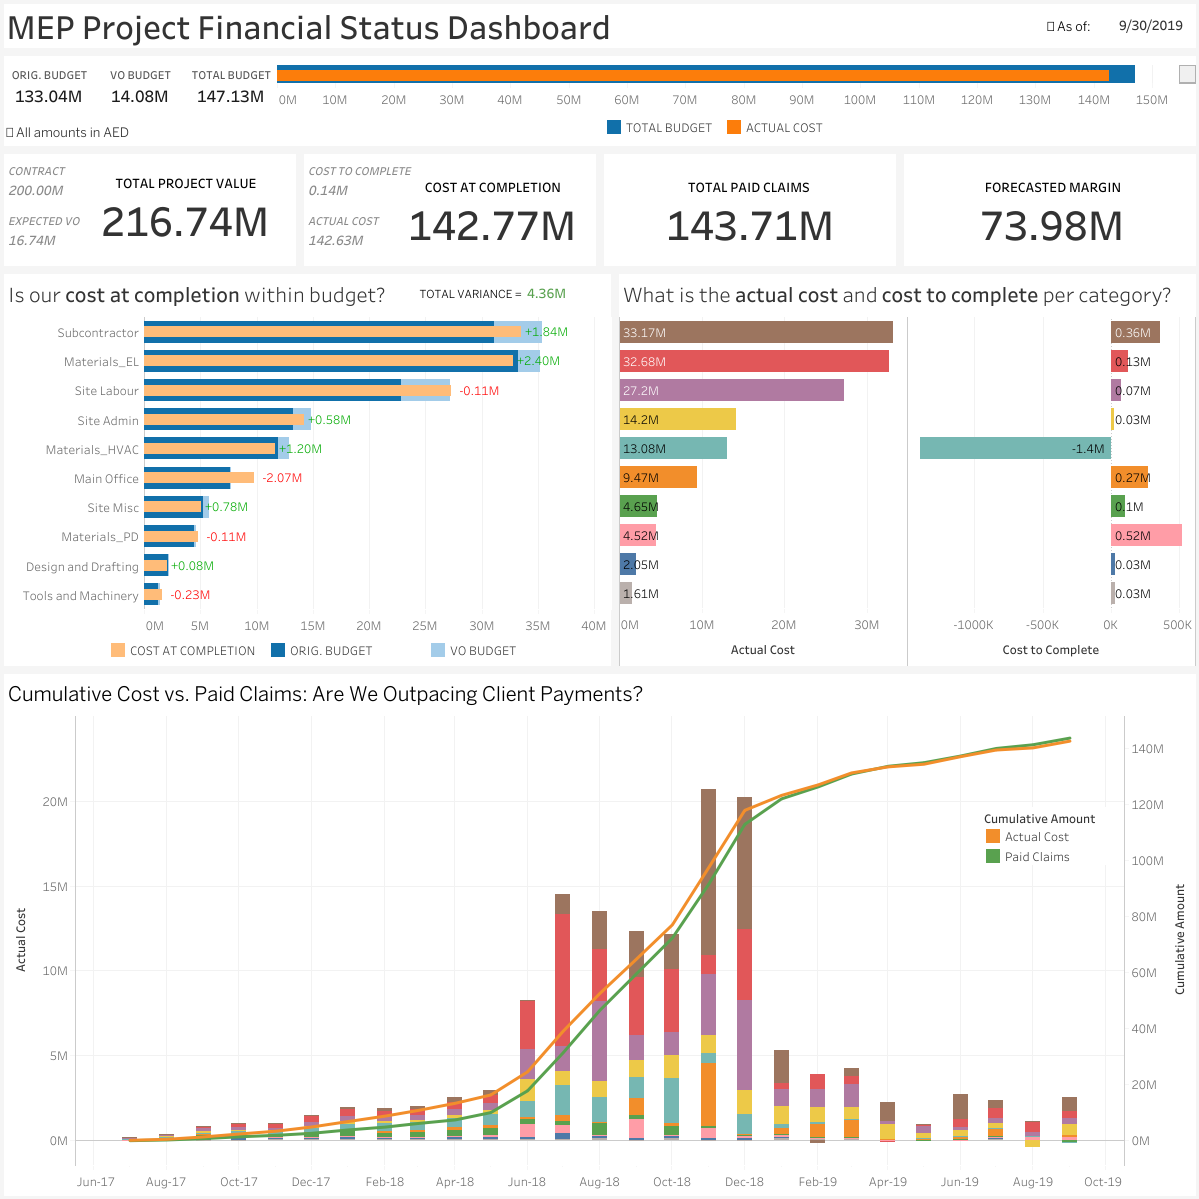

This screenshot's page, from the dashboard's own definition file:
{"tool":"tableau","page":{"name":"Proj_Final","canvas":[1200,1200],"ordinal":0},"visuals":[{"type":"text","box":[0,0,1200,52]},{"type":"text","box":[1045,11,65,30]},{"type":"worksheet","title":"Date","mark":"Text","box":[1112,15,83,22]},{"type":"blank","box":[4,56,280,90]},{"type":"blank","box":[284,56,912,90]},{"type":"worksheet","title":"Budget","mark":"Automatic","box":[4,64,273,43]},{"type":"worksheet","title":"Budg_vs_Cost","mark":"Bar","cols":["Total Budget","Actual Cost"],"box":[277,65,919,75]},{"type":"text","box":[4,117,177,30]},{"type":"legend","title":"Budg_vs_Cost","param":"[federated.02gvoz4029bodc12l8g411tdh6ij].[:Measure Names]","box":[604,117,242,23]},{"type":"blank","box":[0,150,300,120]},{"type":"blank","box":[300,150,300,120]},{"type":"blank","box":[600,150,300,120]},{"type":"blank","box":[900,150,300,120]},{"type":"worksheet","title":"Contract","mark":"Text","box":[4,160,90,40]},{"type":"worksheet","title":"CTC","mark":"Automatic","box":[304,160,117,40]},{"type":"worksheet","title":"Tot_cont","mark":"Automatic","box":[96,172,188,76]},{"type":"worksheet","title":"Tot_cost","mark":"Text","box":[403,176,188,76]},{"type":"worksheet","title":"Paid","mark":"Automatic","box":[659,176,185,76]},{"type":"worksheet","title":"Margin","mark":"Automatic","box":[973,176,162,76]},{"type":"worksheet","title":"VO","mark":"Text","box":[4,210,90,40]},{"type":"worksheet","title":"ACost","mark":"Automatic","box":[304,210,90,40]},{"type":"worksheet","title":"Variance","mark":"Bar","rows":["Cost Category"],"cols":["Cost at Completion"],"box":[0,270,615,400]},{"type":"worksheet","title":"Cost_dist","mark":"Automatic","rows":["Cost Category"],"cols":["Actual Cost (variance.csv)","Cost to Completion"],"box":[615,270,585,400]},{"type":"text","box":[417,282,106,23]},{"type":"worksheet","title":"Tot_variance","mark":"Automatic","box":[523,283,56,22]},{"type":"legend","title":"Variance","param":"[federated.02gvoz4029bodc12l8g411tdh6ij].[:Measure Names]","box":[108,640,501,21]},{"type":"worksheet","title":"Cost_Claims","mark":"Bar","rows":["Actual Cost"],"cols":["Date_2"],"box":[0,670,1200,530]},{"type":"legend","title":"Cost_Claims","param":"[federated.1e8hgw30le73ar1fo5s460cyscyi].[:Measure Names]","box":[983,807,140,58]}]}

Visuals, with their boxes in screenshot pixels (x1, y1, x2, y2), scaled from the page's 1200x1200 canvas onto the 1199x1199 screenshot:
text: (x1=0, y1=0, x2=1198, y2=52)
text: (x1=1044, y1=11, x2=1109, y2=41)
"Date" worksheet (Text marks): (x1=1111, y1=15, x2=1194, y2=37)
blank: (x1=4, y1=56, x2=284, y2=146)
blank: (x1=284, y1=56, x2=1195, y2=146)
"Budget" worksheet: (x1=4, y1=64, x2=277, y2=107)
"Budg_vs_Cost" worksheet (Bar marks): (x1=277, y1=65, x2=1195, y2=140)
text: (x1=4, y1=117, x2=181, y2=147)
"Budg_vs_Cost" legend: (x1=603, y1=117, x2=845, y2=140)
blank: (x1=0, y1=150, x2=300, y2=270)
blank: (x1=300, y1=150, x2=600, y2=270)
blank: (x1=600, y1=150, x2=899, y2=270)
blank: (x1=899, y1=150, x2=1198, y2=270)
"Contract" worksheet (Text marks): (x1=4, y1=160, x2=94, y2=200)
"CTC" worksheet: (x1=304, y1=160, x2=421, y2=200)
"Tot_cont" worksheet: (x1=96, y1=172, x2=284, y2=248)
"Tot_cost" worksheet (Text marks): (x1=403, y1=176, x2=591, y2=252)
"Paid" worksheet: (x1=658, y1=176, x2=843, y2=252)
"Margin" worksheet: (x1=972, y1=176, x2=1134, y2=252)
"VO" worksheet (Text marks): (x1=4, y1=210, x2=94, y2=250)
"ACost" worksheet: (x1=304, y1=210, x2=394, y2=250)
"Variance" worksheet (Bar marks): (x1=0, y1=270, x2=614, y2=669)
"Cost_dist" worksheet: (x1=614, y1=270, x2=1198, y2=669)
text: (x1=417, y1=282, x2=523, y2=305)
"Tot_variance" worksheet: (x1=523, y1=283, x2=579, y2=305)
"Variance" legend: (x1=108, y1=639, x2=608, y2=660)
"Cost_Claims" worksheet (Bar marks): (x1=0, y1=669, x2=1198, y2=1198)
"Cost_Claims" legend: (x1=982, y1=806, x2=1122, y2=864)
